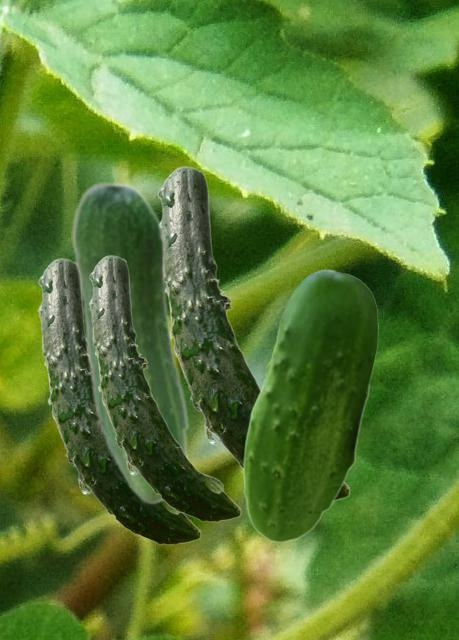cucumber: (157, 166, 349, 501), (37, 258, 200, 544), (88, 255, 240, 521), (71, 180, 189, 504), (243, 269, 377, 542)
